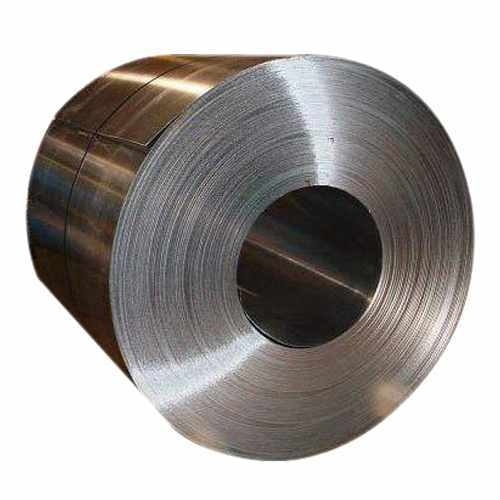steel-coil: (34, 41, 478, 429)
